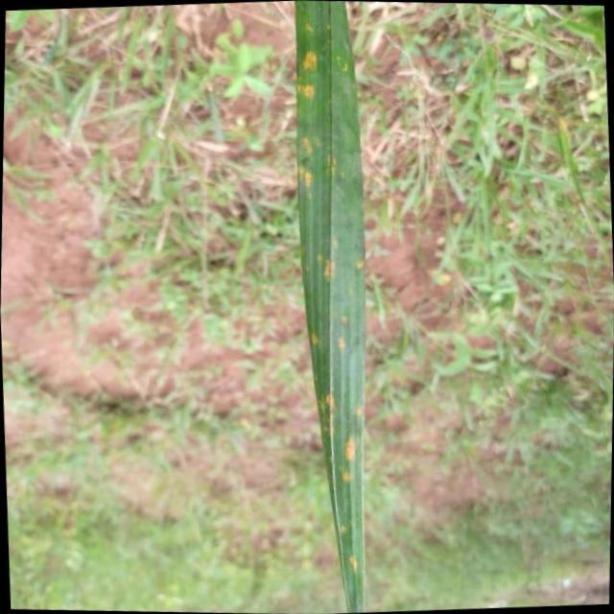Kalium: (296, 1, 368, 614)
